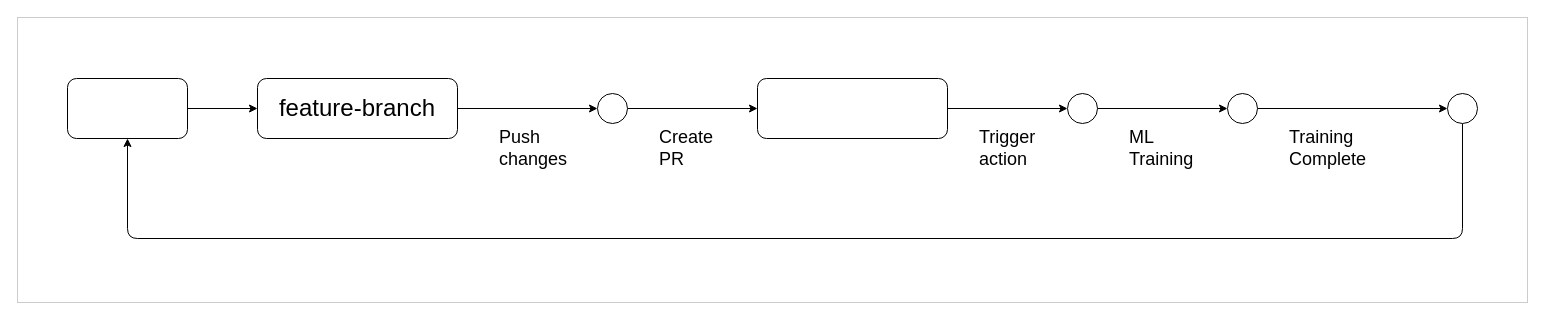
The diagram is 1545 pixels wide and 320 high, and some of its shapes have lost their labels. Here are the shapes that lost their labels. From the top down, the centre of each, then its label:
At [127,108]: "main".
At [852,108]: "Pull Request".
